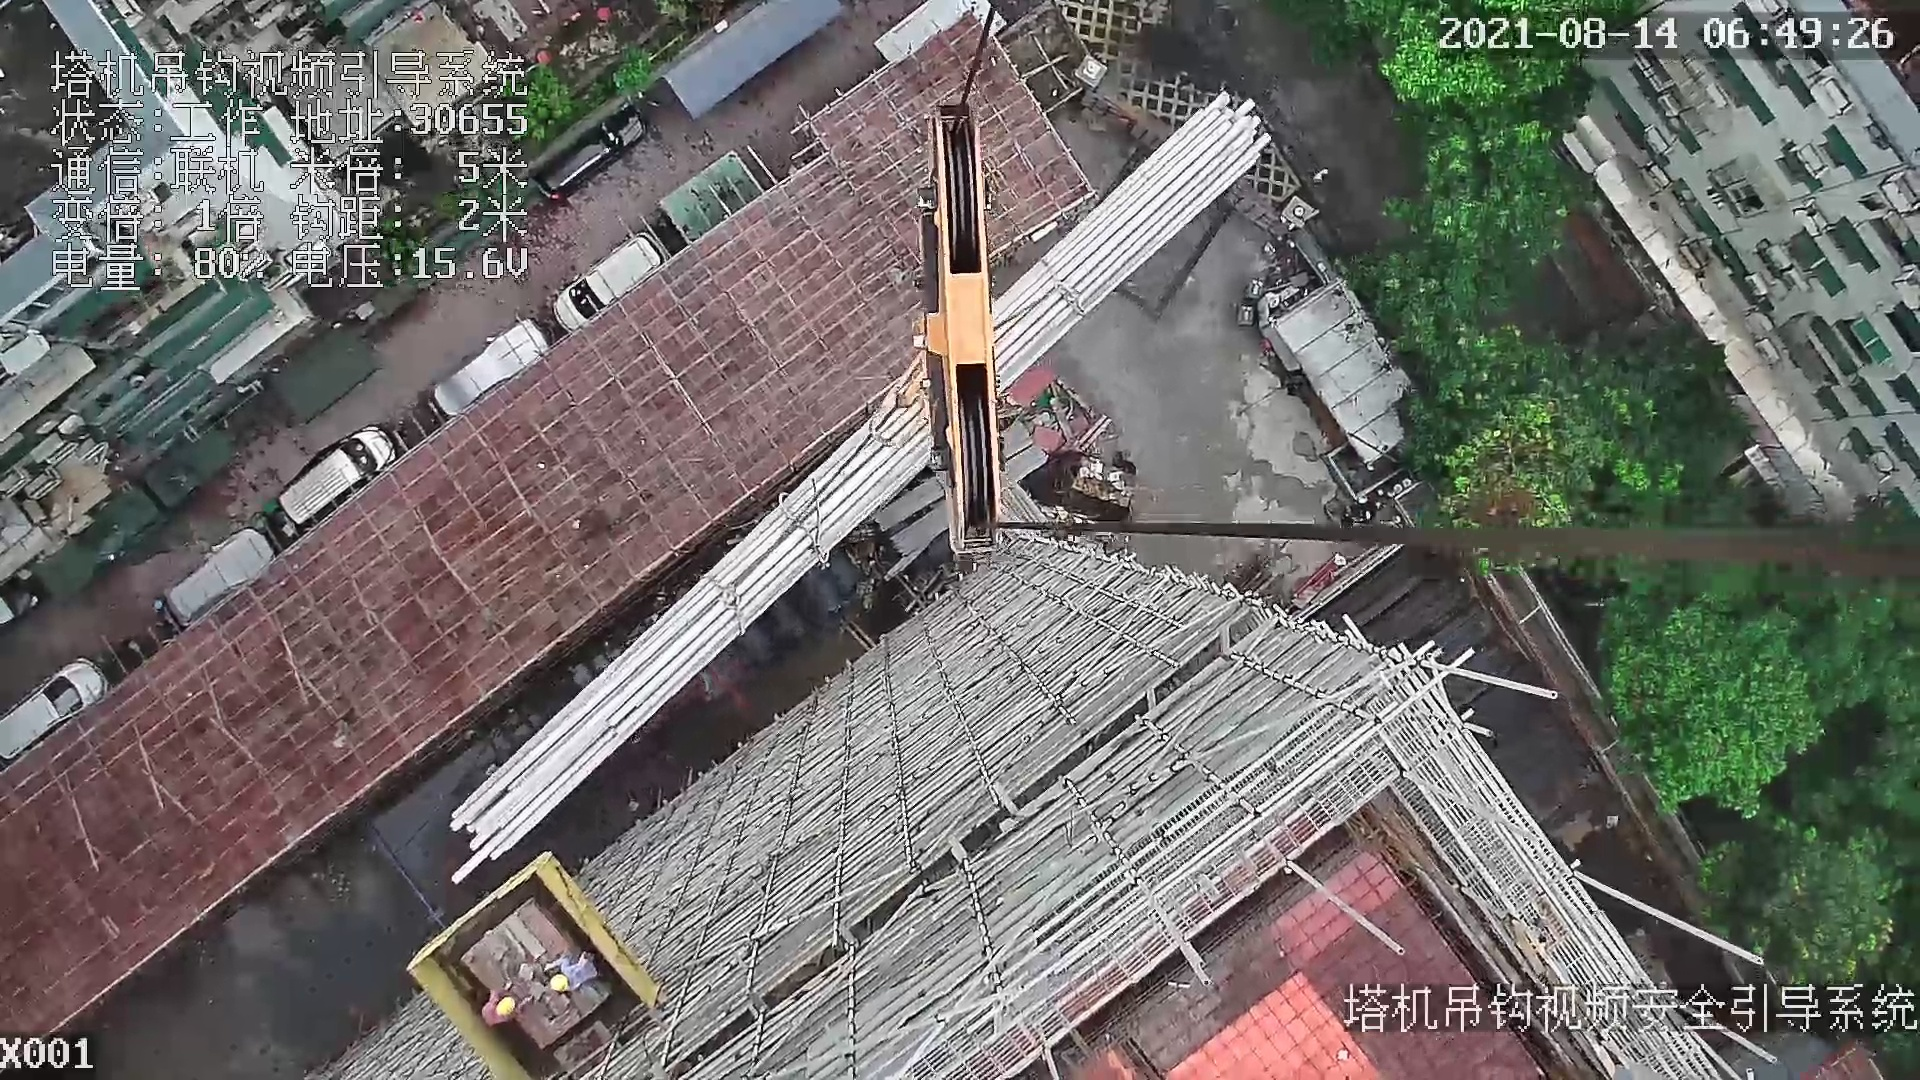helmet: (493, 992, 523, 1020), (545, 969, 570, 995)
hook: (899, 92, 1017, 555)
person: (542, 953, 597, 996), (478, 987, 533, 1027)
